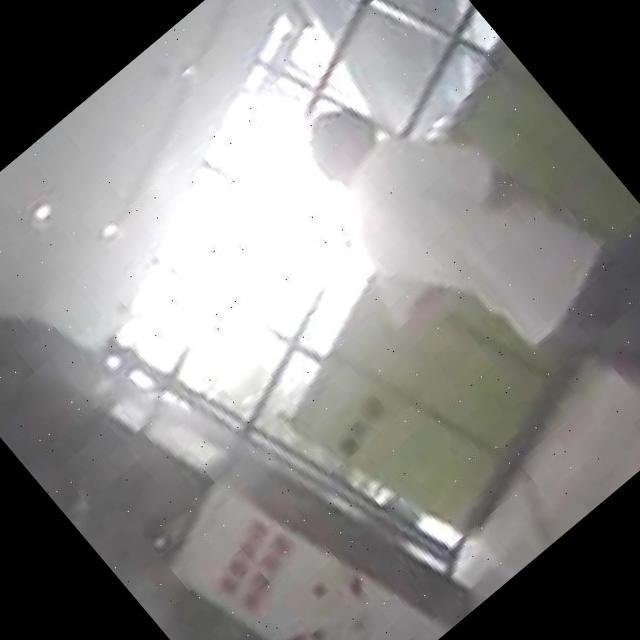person: (279, 0, 640, 513)
